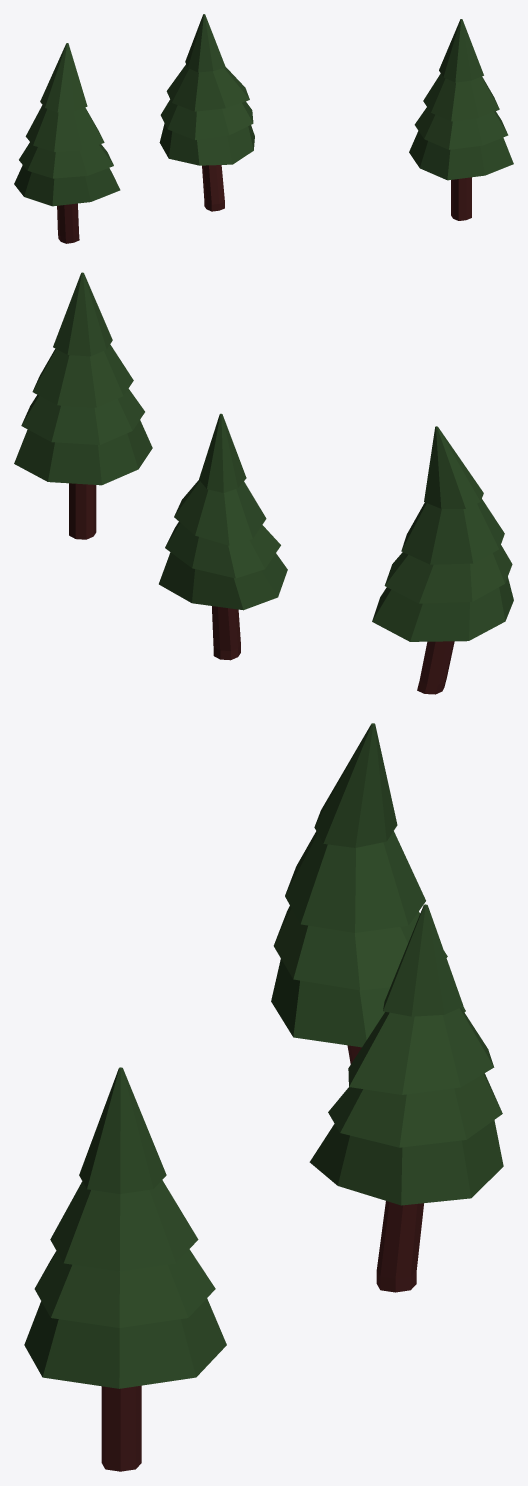
File: Pine Tree Collection 4.fbx
The picture shows the model from 3 angles, top to bottom: view 1: azimuth 30°, elevation 25°; view 2: azimuth 150°, elevation 25°; view 3: azimuth 270°, elevation 25°; orthographic projection. The views are drawn at different scales.
Parts seen in each view (by area): view 1: Cube.003, Pine Tree Bent 2, Pine Tree Bent 1; view 2: Pine Tree Bent 2, Cube.003, Pine Tree Bent 1; view 3: Cube.003, Pine Tree Bent 1, Pine Tree Bent 2.
Boxes of the visible parts, left/top/right/bottom form: Cube.003: left=409, top=19, right=513, bottom=220; Pine Tree Bent 2: left=14, top=43, right=120, bottom=243; Pine Tree Bent 1: left=159, top=14, right=254, bottom=211; Pine Tree Bent 2: left=372, top=426, right=513, bottom=694; Cube.003: left=14, top=272, right=152, bottom=539; Pine Tree Bent 1: left=159, top=413, right=287, bottom=660; Cube.003: left=24, top=1067, right=226, bottom=1471; Pine Tree Bent 1: left=309, top=904, right=503, bottom=1292; Pine Tree Bent 2: left=271, top=723, right=465, bottom=1064.
Size of the model in its own units: 14.28 by 6.7 by 7.
